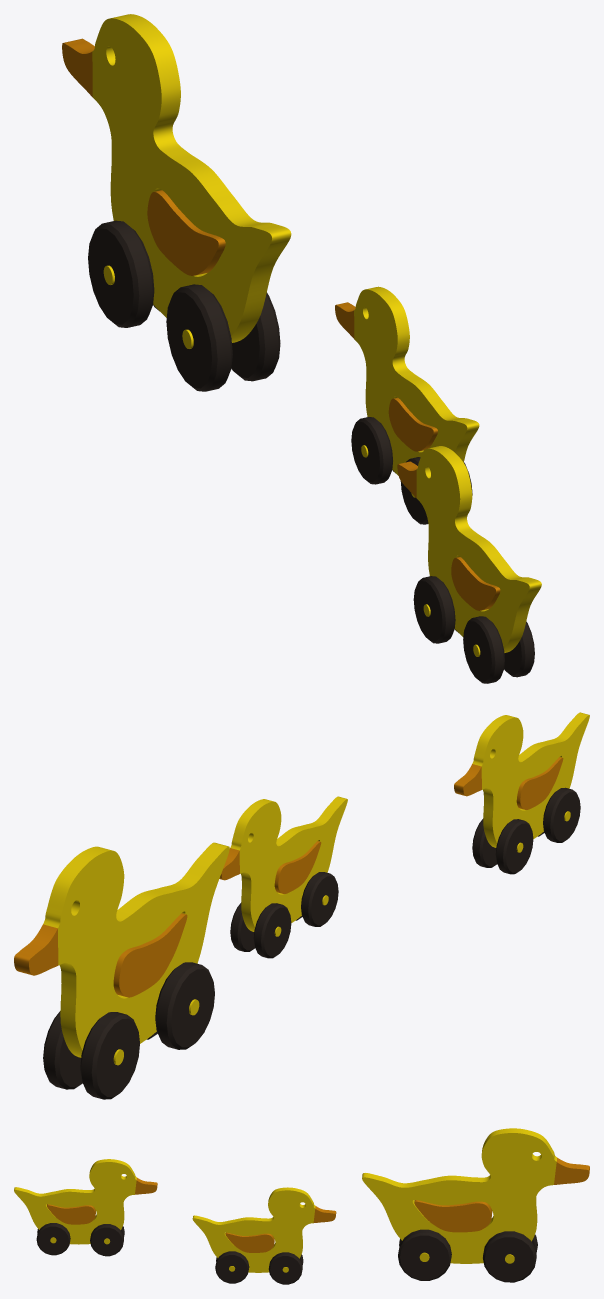
File: kaczki.FBX
3 renders of one model, top to bottom at view 1: azimuth 30°, elevation 25°; view 2: azimuth 150°, elevation 25°; view 3: azimuth 270°, elevation 25°, orthographic. The views are drawn at different scales.
Visible parts, largest first — view 1: Wood Duck003, Wood Duck004, Wood Duck; view 2: Wood Duck003, Wood Duck004, Wood Duck; view 3: Wood Duck003, Wood Duck004, Wood Duck.
Part boxes in pixels (left/top/right/bottom): Wood Duck003: left=62, top=14, right=291, bottom=391; Wood Duck004: left=397, top=446, right=541, bottom=683; Wood Duck: left=335, top=286, right=479, bottom=524; Wood Duck003: left=14, top=842, right=229, bottom=1099; Wood Duck004: left=454, top=712, right=589, bottom=874; Wood Duck: left=219, top=796, right=347, bottom=958; Wood Duck003: left=362, top=1128, right=589, bottom=1282; Wood Duck004: left=14, top=1159, right=157, bottom=1256; Wood Duck: left=192, top=1187, right=336, bottom=1284.
Bounding box in the file's own units: 11.04 × 18.47 × 66.48.
